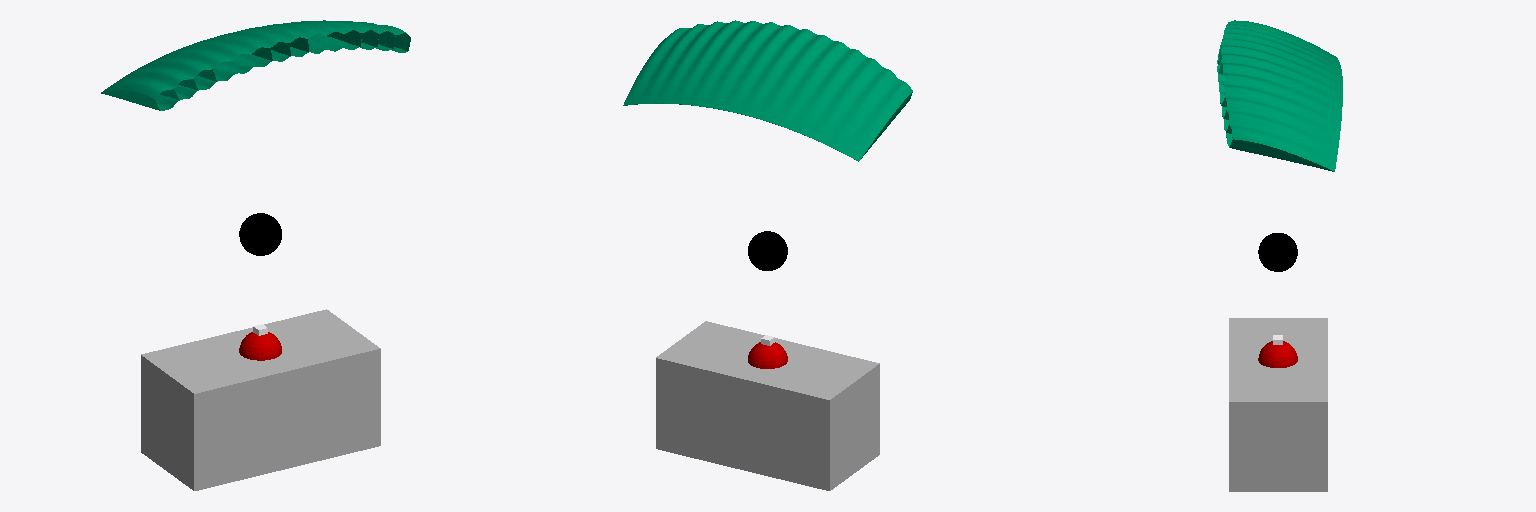
robot.urdf — kite:
<?xml version="1.0"?> 
<robot name="kite"> 

    <material name="blue"> 
        <color rgba="0 0 0.8 1"/> 
    </material> 
    <material name="red"> 
        <color rgba="0.8 0 0 1"/> 
    </material> 
    <material name="green"> 
        <color rgba="0 0.8 0 1"/> 
    </material> 
    <material name="grey"> 
        <color rgba="0.75 0.75 0.75 1"/> 
    </material> 
    <material name="white"> 
        <color rgba="1.0 1.0 1.0 1"/> 
    </material> 
    <material name="black"> 
        <color rgba="0 0 0 1"/> 
    </material> 
  
    <!-- * * * Link Definitions * * * --> 
    
    <link name="world"/>
    
    
    <link name="ground_station"> 
        <visual> 
            <origin rpy="0 0 0" xyz="0 0 0"/> 
            <geometry> 
                <box size="2 1 1"/>  
            </geometry>
            <material name="grey"/> 
        </visual> 
        
        <inertial> 
            <origin xyz="0 0 1" rpy="0 0 0"/> 
            <mass value="30" /> 
            <inertia ixx="20" ixy="0.0" ixz="0.0" iyy="20" iyz="0.0" izz="20"/> 
        </inertial>         
        
        <collision>
            <origin xyz="0 0 0" rpy="0 0 0"/>
            <geometry>
                <box size="2 1 1"/> 
            </geometry>
        </collision>
    </link> 
     
    <gazebo reference="ground_station"> 
        <kp>100000.0</kp> 
        <kd>100000.0</kd> 
        <mu1>10.0</mu1> 
        <mu2>10.0</mu2> 
        <material>Gazebo/Grey</material> 
        <static>true</static>
    </gazebo> 
    
     
    <link name="gimbal1"> 
        <visual> 
            <origin rpy="0 0 0" xyz="0 0 0"/> 
            <geometry> 
                <sphere radius="0.2"/>  
            </geometry> 
            <material name="red"/>
        </visual>
        
        <inertial> 
            <origin xyz="0 0 0" rpy="0 0 0"/> 
            <mass value="0.001" /> 
            <inertia ixx="0.001" ixy="0.0" ixz="0.0" iyy="0.001" iyz="0.0" izz="0.001"/> 
        </inertial>      
        
    </link> 
    
    <gazebo reference="gimbal1"> 
        <kp>100000.0</kp> 
        <kd>100000.0</kd> 
        <mu1>10.0</mu1> 
        <mu2>10.0</mu2> 
        <material>Gazebo/Red</material> 
    </gazebo> 
    
    
    <link name="gimbal2"> 
        <visual> 
            <origin rpy="0 0 0" xyz="0 0 0"/> 
            <geometry> 
                <sphere radius="0.2"/>  
            </geometry> 
            <material name="green"/>
        </visual>
        
        <inertial> 
            <origin xyz="0 0 0" rpy="0 0 0"/> 
            <mass value="0.001" /> 
            <inertia ixx="0.001" ixy="0.0" ixz="0.0" iyy="0.001" iyz="0.0" izz="0.001"/> 
        </inertial>
        
    </link> 
    
    <gazebo reference="gimbal2"> 
        <kp>100000.0</kp> 
        <kd>100000.0</kd> 
        <mu1>10.0</mu1> 
        <mu2>10.0</mu2> 
        <material>Gazebo/Green</material> 
    </gazebo> 
    
    
    <link name="connector">  
        <visual>  
            <origin rpy="0 0 0" xyz="0 0 0"/>  
            <geometry>  
                <box size="0.1 0.1 0.1"/>   
            </geometry>  
            <material name="white"/> 
        </visual>  
        
        <inertial> 
            <origin xyz="0 0 0" rpy="0 0 0"/> 
            <mass value="0.001" /> 
            <inertia ixx="0.001" ixy="0.0" ixz="0.0" iyy="0.001" iyz="0.0" izz="0.001"/> 
        </inertial>      
        
    </link>  
     
    <gazebo reference="connector">  
        <kp>100000.0</kp>  
        <kd>100000.0</kd>  
        <mu1>10.0</mu1>  
        <mu2>10.0</mu2>  
        <material>Gazebo/White</material>  
    </gazebo> 
    
    
    <link name="tether">   
        <visual>   
            <origin rpy="0 0 0" xyz="0 0 0"/>   
            <geometry>   
                <cylinder radius="0.0015" length="1"/>   
            </geometry>   
            <material name="white"/>  
        </visual>   
        
        <inertial> 
            <origin xyz="0 0 0" rpy="0 0 0"/> 
            <mass value="0.001" /> 
            <inertia ixx="0.001" ixy="0.0" ixz="0.0" iyy="0.001" iyz="0.0" izz="0.001"/> 
        </inertial>     

    </link>   
    
    <gazebo reference="tether">  
        <kp>100000.0</kp>  
        <kd>100000.0</kd>  
        <mu1>10.0</mu1>  
        <mu2>10.0</mu2>  
        <material>Gazebo/White</material>  
    </gazebo> 
    
    
    <link name="control_pod">   
        <visual>   
            <origin rpy="0 0 0" xyz="0 0 0"/>   
            <geometry>   
                <sphere radius="0.2"/> 
            </geometry>   
            <material name="black"/>  
        </visual>   
        
        <inertial> 
            <origin xyz="0 0 0" rpy="0 0 0"/> 
            <mass value="0.001" /> 
            <inertia ixx="0.001" ixy="0.0" ixz="0.0" iyy="0.001" iyz="0.0" izz="0.001"/> 
        </inertial>      
        
        <collision>
            <origin rpy="0 0 0" xyz="0 0 0"/>   
            <geometry>   
                <sphere radius="0.2"/> 
            </geometry>    
        </collision>    
    </link>   
    
    <gazebo reference="control_pod">  
        <kp>100000.0</kp>  
        <kd>100000.0</kd>  
        <mu1>10.0</mu1>  
        <mu2>10.0</mu2>  
        <material>Gazebo/Black</material>  
    </gazebo> 
    
    
    <link name="briddle">   
        <visual>   
            <origin rpy="0 0 0" xyz="0 0 0"/>   
            <geometry>   
                <cylinder radius="0.001" length="2"/>   
            </geometry>   
            <material name="white"/>  
        </visual>   
        
        <inertial> 
            <origin xyz="0 0 0" rpy="0 0 0"/> 
            <mass value="0.001" /> 
            <inertia ixx="0.001" ixy="0.0" ixz="0.0" iyy="0.001" iyz="0.0" izz="0.001"/> 
        </inertial>    
        
        <collision>
            <origin rpy="0 0 0" xyz="0 0 0"/>   
            <geometry>   
                <cylinder radius="0.001" length="2"/>   
            </geometry>      
        </collision>  
    </link>   
    
    <gazebo reference="briddle">  
        <kp>100000.0</kp>  
        <kd>100000.0</kd>  
        <mu1>10.0</mu1>  
        <mu2>10.0</mu2>  
        <material>Gazebo/White</material>  
    </gazebo> 
    
    
    <link name="briddle_x">   
        <visual>   
            <origin rpy="0 0 0" xyz="0 0 0"/>   
            <geometry>   
                <sphere radius="0.001"/>
            </geometry>   
            <material name="white"/>  
        </visual>   
        
        <inertial> 
            <origin xyz="0 0 0" rpy="0 0 0"/> 
            <mass value="0.001" /> 
            <inertia ixx="0.001" ixy="0.0" ixz="0.0" iyy="0.001" iyz="0.0" izz="0.001"/> 
        </inertial>     
    </link>   
    
    <gazebo reference="briddle_x">  
        <kp>100000.0</kp>  
        <kd>100000.0</kd>  
        <mu1>10.0</mu1>  
        <mu2>10.0</mu2>  
        <material>Gazebo/White</material>  
    </gazebo> 
    
    
    <link name="briddle_y">   
        <visual>   
            <origin rpy="0 0 0" xyz="0 0 0"/>   
            <geometry>   
                <sphere radius="0.001"/>
            </geometry>   
            <material name="white"/>  
        </visual>   
        
        <inertial> 
            <origin xyz="0 0 0" rpy="0 0 0"/> 
            <mass value="0.001" /> 
            <inertia ixx="0.001" ixy="0.0" ixz="0.0" iyy="0.001" iyz="0.0" izz="0.001"/> 
        </inertial>     
    </link>   
    
    <gazebo reference="briddle_y">  
        <kp>100000.0</kp>  
        <kd>100000.0</kd>  
        <mu1>10.0</mu1>  
        <mu2>10.0</mu2>  
        <material>Gazebo/White</material>  
    </gazebo> 
    
    
    <link name="parafoil">   
        <visual>   
            <origin rpy="0 0 0" xyz="0 0 0"/>   
            <geometry>   
                <mesh filename="package://my_kite_description/models/kite.dae"/>   
            </geometry>    
        </visual>   
        
        <inertial> 
            <origin xyz="0 0 0" rpy="0 0 0"/> 
            <mass value="1" /> 
            <inertia ixx="0.01" ixy="0.0" ixz="0.0" iyy="0.01" iyz="0.0" izz="0.01"/> 
        </inertial>     
        
        <collision>
            <origin xyz="0 0 0" rpy="0 0 0"/>
            <geometry>
                <mesh filename="package://my_kite_description/models/simplified_kite.dae"/>
            </geometry>
        </collision>
    </link>   
    
    <gazebo reference="parafoil">  
        <kp>100000.0</kp>  
        <kd>100000.0</kd>  
        <mu1>10.0</mu1>  
        <mu2>10.0</mu2>  
        <material>Gazebo/White</material>  
    </gazebo> 
        
    
     
    <!-- * * * Joint Definitions * * * --> 
    <gazebo>
        <plugin name="gazebo_ros_control" filename="libgazebo_ros_control.so">
            <robotNamespace>/kite</robotNamespace>
        </plugin>
        
        
        <plugin name="imu_plugin" filename="libgazebo_ros_imu.so">
            <alwaysOn>true</alwaysOn>
            <bodyName>parafoil</bodyName>
            <topicName>imu</topicName>
            <serviceName>imu_service</serviceName>
            <gaussianNoise>0.0</gaussianNoise>
            <updateRate>20.0</updateRate>
        </plugin>

    </gazebo>
    
    
    <gazebo reference="parafoil">
      <gravity>true</gravity>
      <sensor name="imu_sensor" type="imu">
        <always_on>true</always_on>
        <update_rate>100</update_rate>
        <visualize>true</visualize>
        <topic>__default_topic__</topic>
        <plugin filename="libgazebo_ros_imu_sensor.so" name="imu_plugin">
          <topicName>imu</topicName>
          <bodyName>parafoil</bodyName>
          <updateRateHZ>10.0</updateRateHZ>
          <gaussianNoise>0.0</gaussianNoise>
          <xyzOffset>0 0 0</xyzOffset>
          <rpyOffset>0 0 0</rpyOffset>
          <frameName>parafoil</frameName>
          <initialOrientationAsReference>false</initialOrientationAsReference>
        </plugin>
        <pose>0 0 0 0 0 0</pose>
      </sensor>
    </gazebo>
    
    
    <joint name="fixed" type="fixed">
    	<parent link="world"/>
    	<child link="ground_station"/>
    </joint>
    
    
    <joint name="gimbal_joint1" type="revolute"> 
        <parent link="ground_station"/> 
        <child link="gimbal1"/> 
        <origin xyz="0 0 0.5" rpy="0 0 0"/> 
        <axis xyz="1 0 0"/>
        <limit lower="-1.571" upper="1.571" effort="1000" velocity="0.01"/>
    </joint>
    
    <transmission name="gimbal_x">
        <type>transmission_interface/SimpleTransmission</type>
        <joint name="gimbal_joint1">
            <hardwareInterface>EffortJointInterface</hardwareInterface>
        </joint>
        <actuator name="motor1">
            <hardwareInterface>EffortJointInterface</hardwareInterface>
            <mechanicalReduction>1000</mechanicalReduction>
        </actuator>
    </transmission>
    
    
    <joint name="gimbal_joint2" type="revolute"> 
        <parent link="gimbal1"/> 
        <child link="gimbal2"/> 
        <origin xyz="0 0 0" rpy="0 0 0"/> 
        <axis xyz="0 1 0"/>
        <limit lower="-1.571" upper="1.571" effort="1000" velocity="0.005"/>
    </joint>
    
    <transmission name="gimbal_y">
        <type>transmission_interface/SimpleTransmission</type>
        <joint name="gimbal_joint2">
            <hardwareInterface>EffortJointInterface</hardwareInterface>
        </joint>
        <actuator name="motor2">
            <hardwareInterface>EffortJointInterface</hardwareInterface>
            <mechanicalReduction>1000</mechanicalReduction>
        </actuator>
    </transmission>
    
    
    <joint name="connector_joint" type="fixed">  
        <parent link="gimbal2"/>  
        <child link="connector"/>  
        <origin xyz="0 0 0.2" rpy="0 0 0"/>  
    </joint> 
    
    
    <joint name="tether_joint" type="prismatic">   
        <parent link="connector"/>   
        <child link="tether"/>   
        <origin xyz="0 0 0.5" rpy="0 0 0"/>   
        <axis xyz="0 0 1"/>
        <limit lower="0" upper="300" effort="500" velocity="0.005"/> 
    </joint>  
    
    <transmission name="tether_length">
        <type>transmission_interface/SimpleTransmission</type>
        <joint name="tether_joint">
            <hardwareInterface>EffortJointInterface</hardwareInterface>
        </joint>
        <actuator name="motor4">
            <hardwareInterface>EffortJointInterface</hardwareInterface>
            <mechanicalReduction>1000</mechanicalReduction>
        </actuator>
    </transmission>
    
    
    <joint name="control_pod_joint" type="fixed">   
        <parent link="tether"/>   
        <child link="control_pod"/>   
        <origin xyz="0 0 0.5" rpy="0 0 0"/>   
    </joint>      
    
    
    <joint name="briddle_joint" type="fixed">   
        <parent link="control_pod"/>   
        <child link="briddle"/>   
        <origin xyz="0 0 1" rpy="0 0 0"/>   
    </joint> 
    
    
    <joint name="briddle_x_joint" type="revolute">   
        <parent link="briddle"/>   
        <child link="briddle_x"/>   
        <origin xyz="0 0 1" rpy="0 0 0"/> 
        <axis xyz="1 0 0"/>
        <limit lower="-1.571" upper="1.571" effort="100" velocity="0.005"/>
    </joint>
    
    <transmission name="kite_x">
        <type>transmission_interface/SimpleTransmission</type>
        <joint name="briddle_x_joint">
            <hardwareInterface>EffortJointInterface</hardwareInterface>
        </joint>
        <actuator name="motor4">
            <hardwareInterface>EffortJointInterface</hardwareInterface>
            <mechanicalReduction>300</mechanicalReduction>
        </actuator>
    </transmission>
    
    
    <joint name="briddle_y_joint" type="revolute">   
        <parent link="briddle_x"/>   
        <child link="briddle_y"/>   
        <origin xyz="0 0 0" rpy="0 0 0"/> 
        <axis xyz="0 1 0"/>
        <limit lower="-1.571" upper="1.571" effort="500" velocity="0.005"/>
    </joint>
    
    <transmission name="kite_y">
        <type>transmission_interface/SimpleTransmission</type>
        <joint name="briddle_y_joint">
            <hardwareInterface>EffortJointInterface</hardwareInterface>
        </joint>
        <actuator name="motor5">
            <hardwareInterface>EffortJointInterface</hardwareInterface>
            <mechanicalReduction>300</mechanicalReduction>
        </actuator>
    </transmission>
    
    
    <joint name="briddle_z_joint" type="revolute">   
        <parent link="briddle_y"/>   
        <child link="parafoil"/>   
        <origin xyz="0 0 0" rpy="0 0 0"/> 
        <axis xyz="0 0 1"/>
        <limit lower="-1.571" upper="1.571" effort="500" velocity="0.005"/>
    </joint>
    
    <transmission name="kite_z">
        <type>transmission_interface/SimpleTransmission</type>
        <joint name="briddle_z_joint">
            <hardwareInterface>EffortJointInterface</hardwareInterface>
        </joint>
        <actuator name="motor6">
            <hardwareInterface>EffortJointInterface</hardwareInterface>
            <mechanicalReduction>300</mechanicalReduction>
        </actuator>
    </transmission>

    
</robot>
 

--- Render facts (derived) ---
Views: 3 orthographic renders of the robot side by side, from view 1: azimuth 30°, elevation 25°; view 2: azimuth 150°, elevation 25°; view 3: azimuth 270°, elevation 25°.
Robot: kite — 11 links, 10 joints (5 revolute, 1 prismatic, 4 fixed); root link world; default pose: all joints at 0.
Links seen in each view (by area): view 1: ground_station, parafoil, control_pod, gimbal1; view 2: ground_station, parafoil, control_pod, gimbal1; view 3: ground_station, parafoil, control_pod, gimbal1.
Link boxes in pixels (x1,y1,x2,y2): ground_station: [141, 309, 380, 490]; parafoil: [101, 20, 410, 110]; control_pod: [239, 213, 281, 255]; gimbal1: [239, 332, 281, 360]; ground_station: [656, 321, 879, 490]; parafoil: [623, 20, 912, 161]; control_pod: [748, 231, 787, 270]; gimbal1: [748, 342, 787, 368]; ground_station: [1229, 318, 1327, 491]; parafoil: [1217, 20, 1342, 171]; control_pod: [1258, 233, 1297, 271]; gimbal1: [1258, 341, 1297, 367].
Bounding box of the posed robot: 2.79 × 1.27 × 4.43 m (x, y, z).
Meshes: 1 distinct files referenced, 1 mesh visuals loaded (1 Collada DAE).